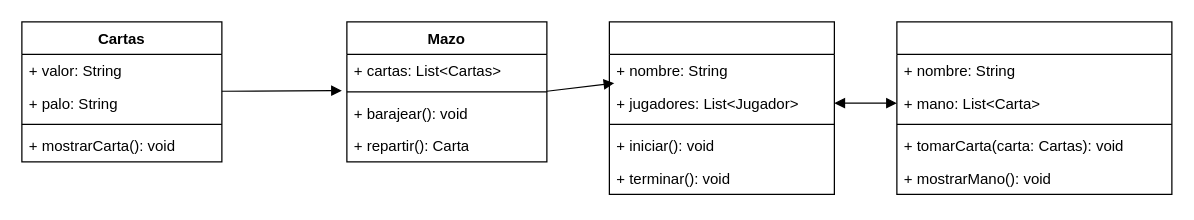
The diagram is 1194 pixels wide and 220 high, and some of its shapes have lost their labels. Here are the shapes that lost their labels. From the top down, the box of each, then its label:
(608, 21, 834, 194): Jugada
(896, 21, 1172, 194): Jugador
